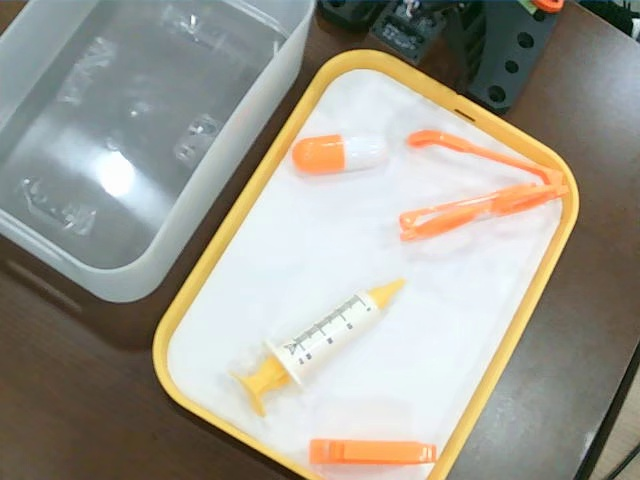pill: (290, 128, 390, 179)
syringe: (227, 276, 410, 416)
